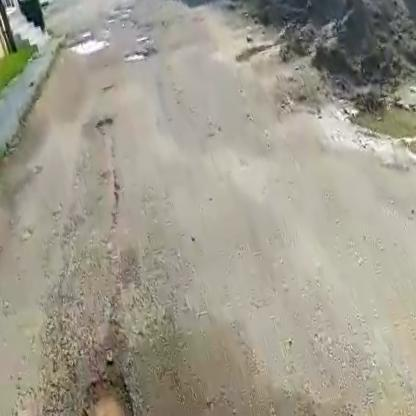pothole: (56, 369, 150, 416), (61, 31, 112, 62), (122, 46, 153, 68)
